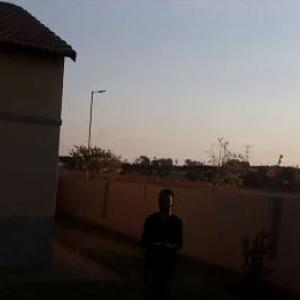follow: (134, 181, 188, 299)
